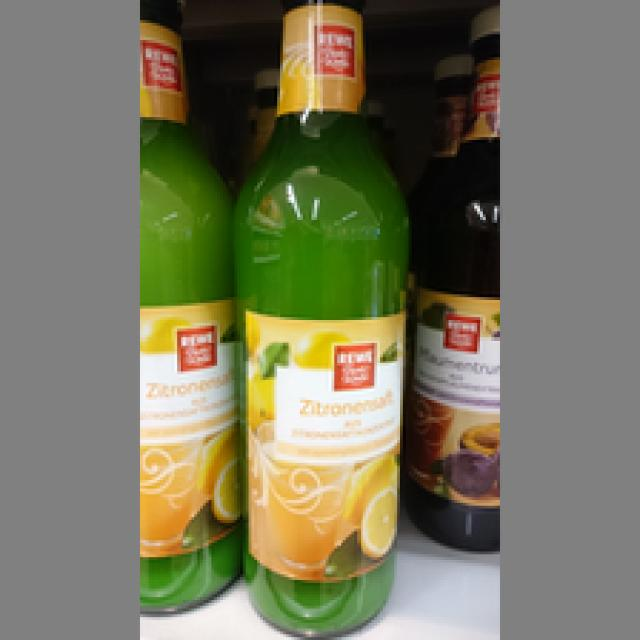groceries: (232, 3, 408, 634), (137, 6, 243, 614), (406, 8, 494, 546)
